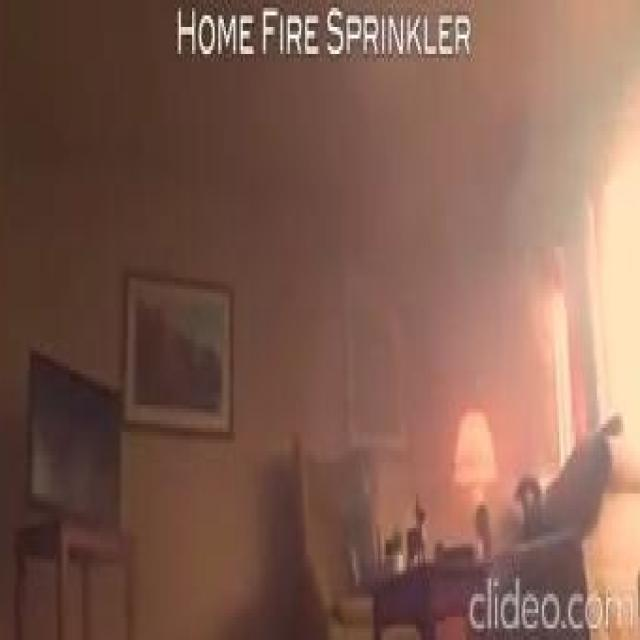smoke: (527, 274, 565, 362)
